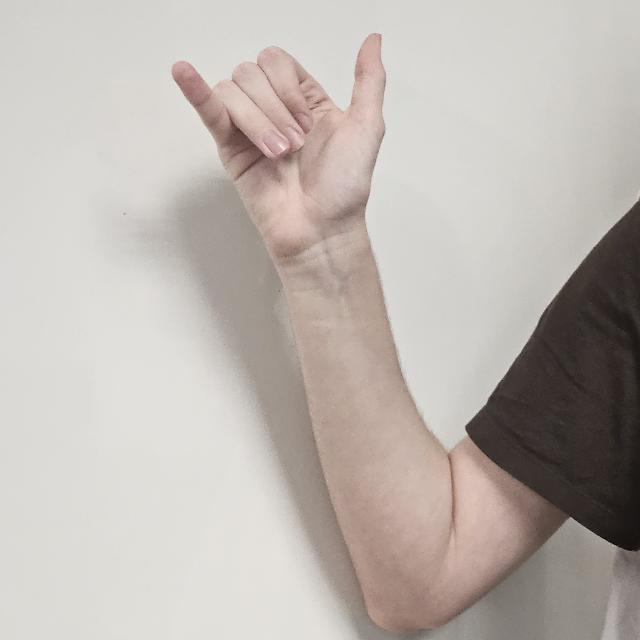Direita: (170, 31, 390, 265)
